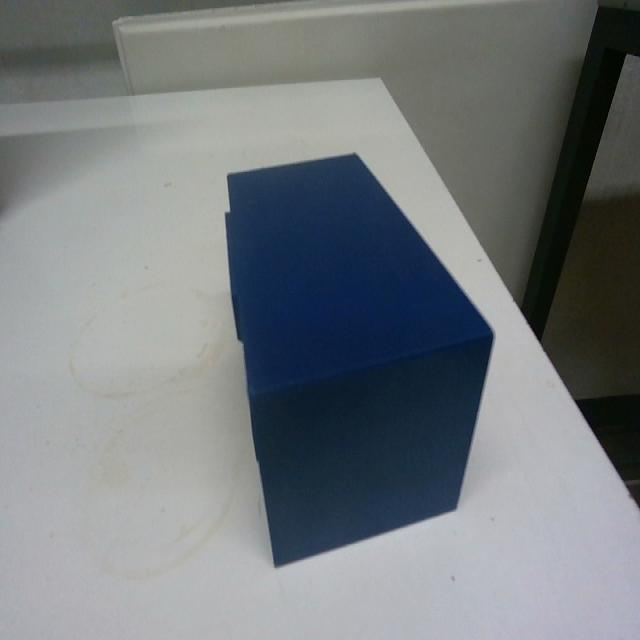Blue Cuboid: (221, 148, 496, 567)
